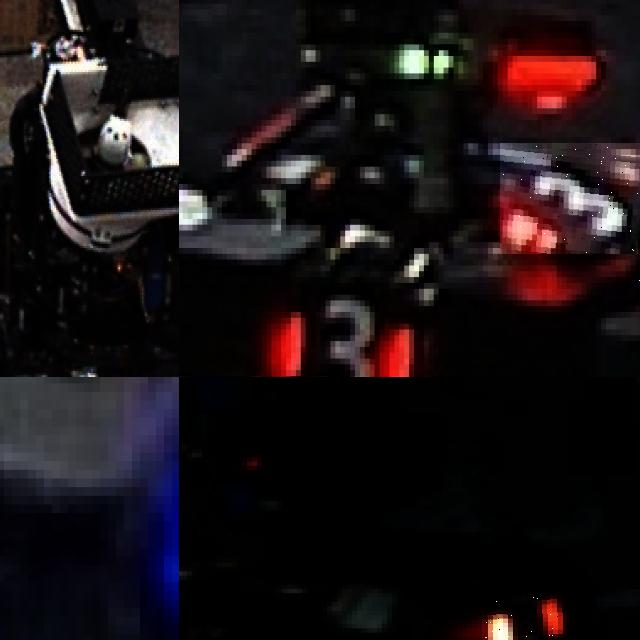R3: (249, 283, 416, 377), (500, 143, 640, 253)
Rs: (482, 593, 567, 640)
